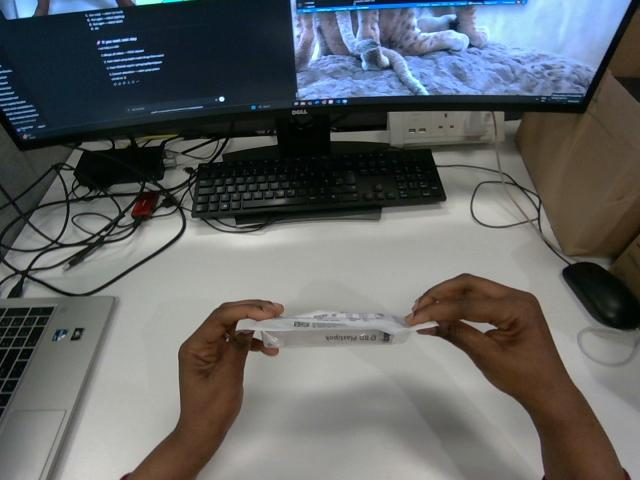syringe: (236, 311, 434, 347)
